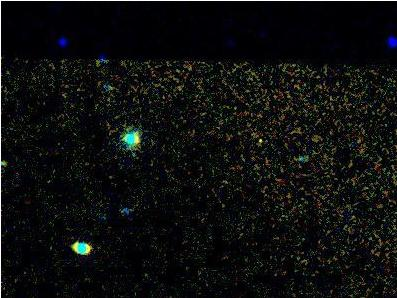star: (243, 127, 273, 157)
